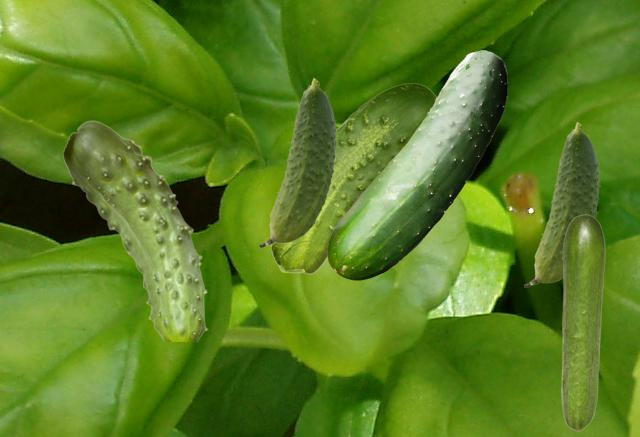cucumber: (327, 50, 506, 279), (62, 120, 207, 340), (270, 83, 436, 273), (259, 78, 336, 246), (524, 122, 599, 286), (561, 214, 604, 430)
